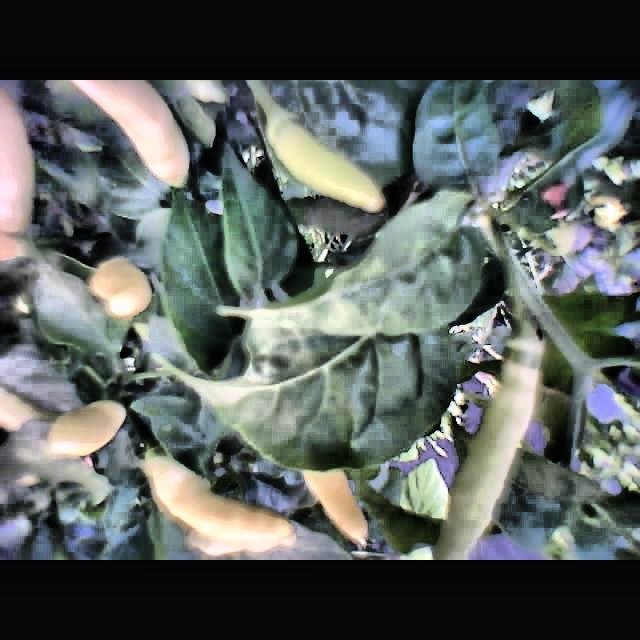Cabai: (79, 80, 204, 199), (152, 454, 289, 560), (27, 375, 141, 476), (76, 248, 164, 335), (310, 467, 367, 541)
